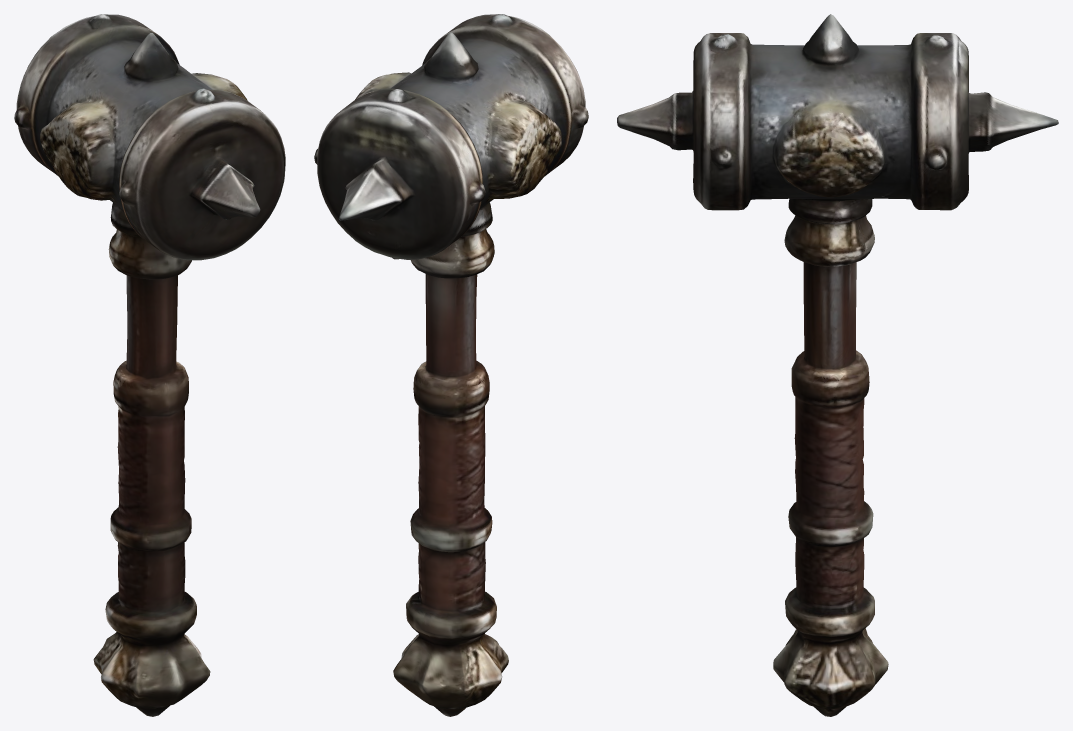
The model's file is war_hammer.glb.
3 views of the same model, side by side, from view 1: azimuth 30°, elevation 25°; view 2: azimuth 150°, elevation 25°; view 3: azimuth 270°, elevation 25° (orthographic). The views are drawn at different scales.
Parts seen in each view (by area): view 1: war_hammer; view 2: war_hammer; view 3: war_hammer.
Part boxes in pixels (box(x1,y1,x2,y2)): war_hammer: box(14, 14, 285, 716); war_hammer: box(314, 14, 588, 716); war_hammer: box(617, 14, 1058, 716).
Size of the model in its own units: 0.1911 by 0.7202 by 0.4115.
1 material, 1 textured.
